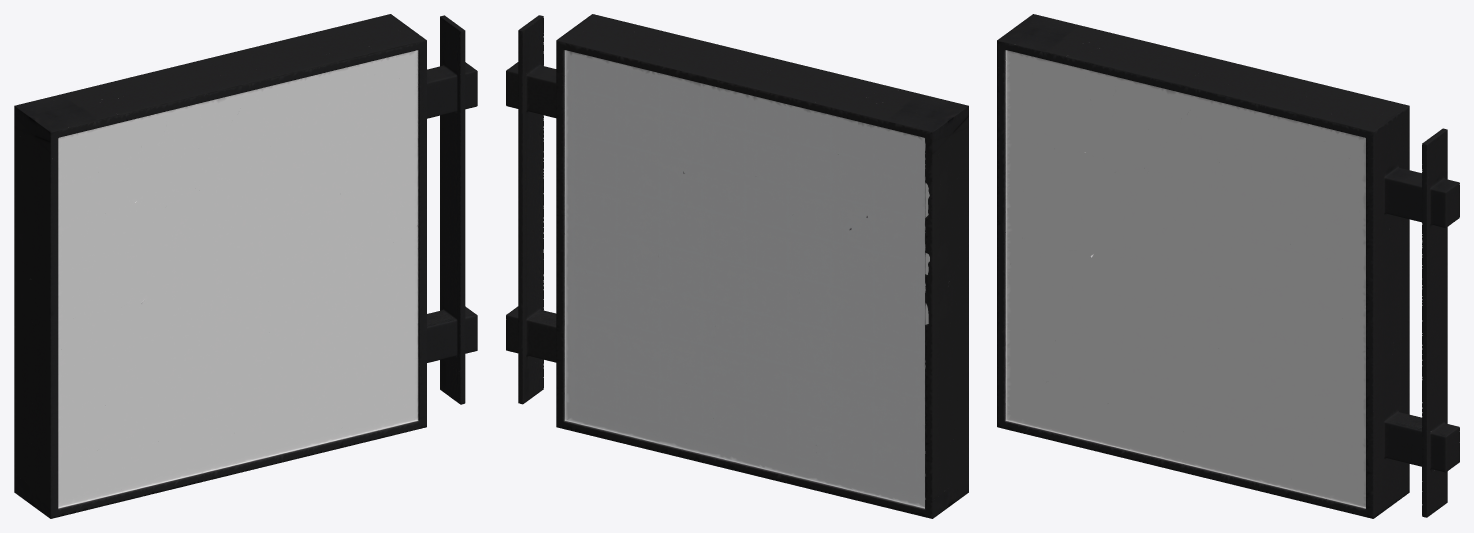
File: Meshy_AI_Blank_Square_Sign_0603032902_texture.glb
3 views of the same model, side by side, from view 1: azimuth 30°, elevation 25°; view 2: azimuth 150°, elevation 25°; view 3: azimuth 330°, elevation 25° (orthographic).
Size of the model in its own units: 1.9 by 1.6 by 0.2732.
Materials: 1 (1 with a texture image).
